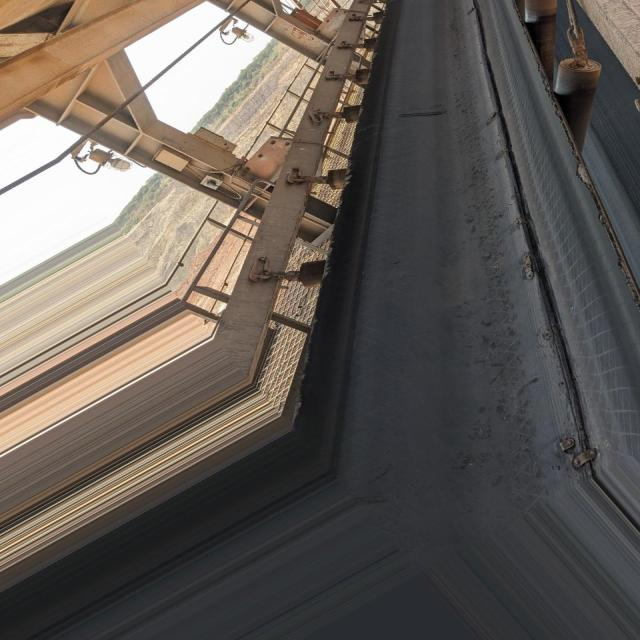Roller: (549, 58, 604, 160)
Tear: (456, 20, 607, 467)
